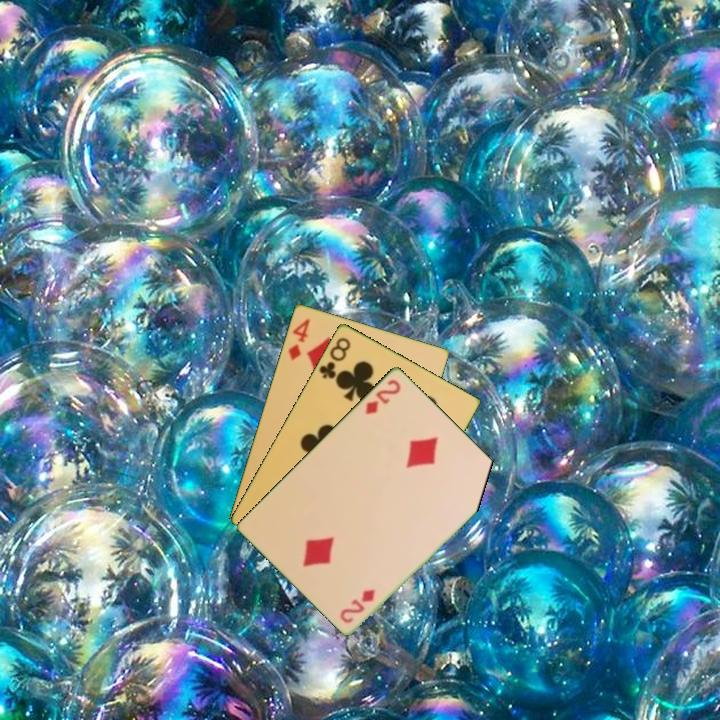2d: (361, 376, 404, 417), (336, 585, 378, 625)
4d: (284, 315, 313, 363)
8c: (315, 333, 353, 381)
